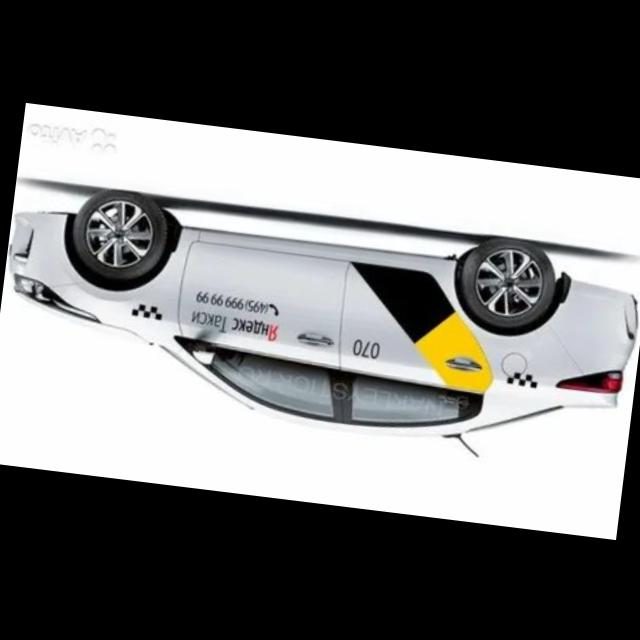taxi: (1, 177, 640, 476)
